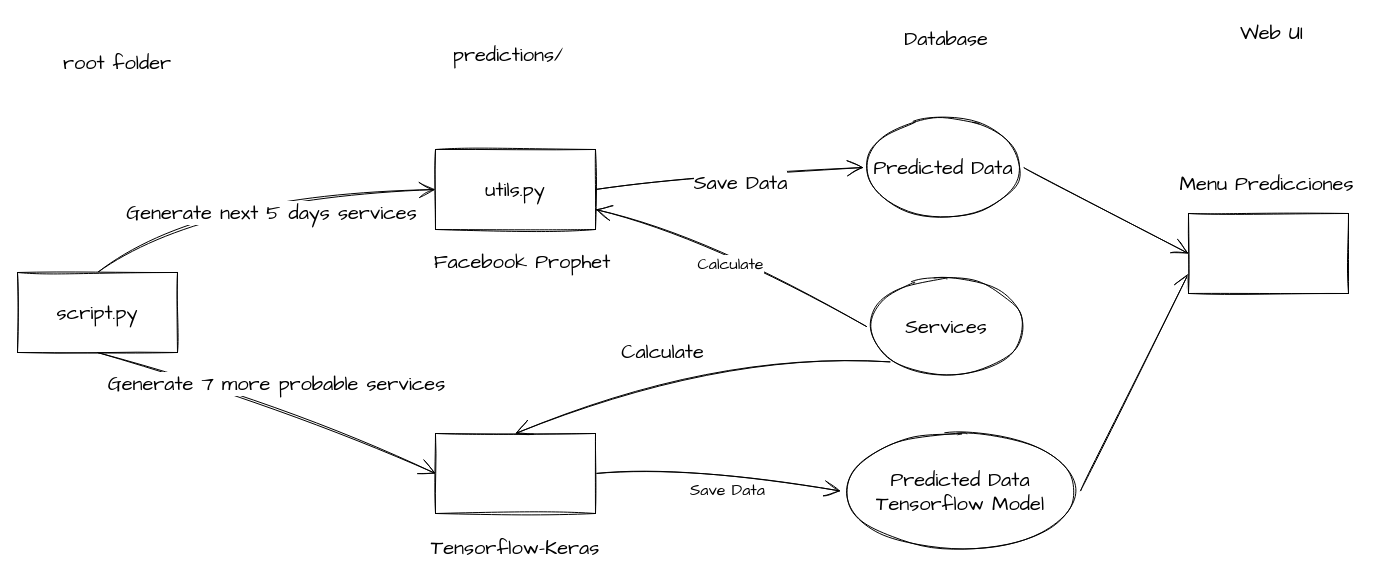
This 1378x579 diagram has some shape labels left out. Each missing label, with the centre of its shape:
"Django View PredictionView" belongs at point 1268,253.
"utils_tensor.py" belongs at point 515,473.
